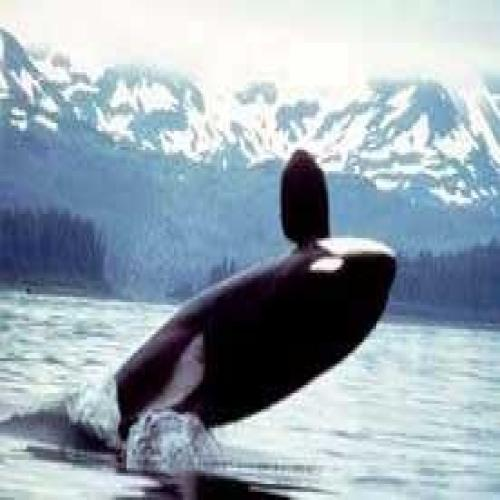killer_whale-endangered: (68, 141, 407, 449)
